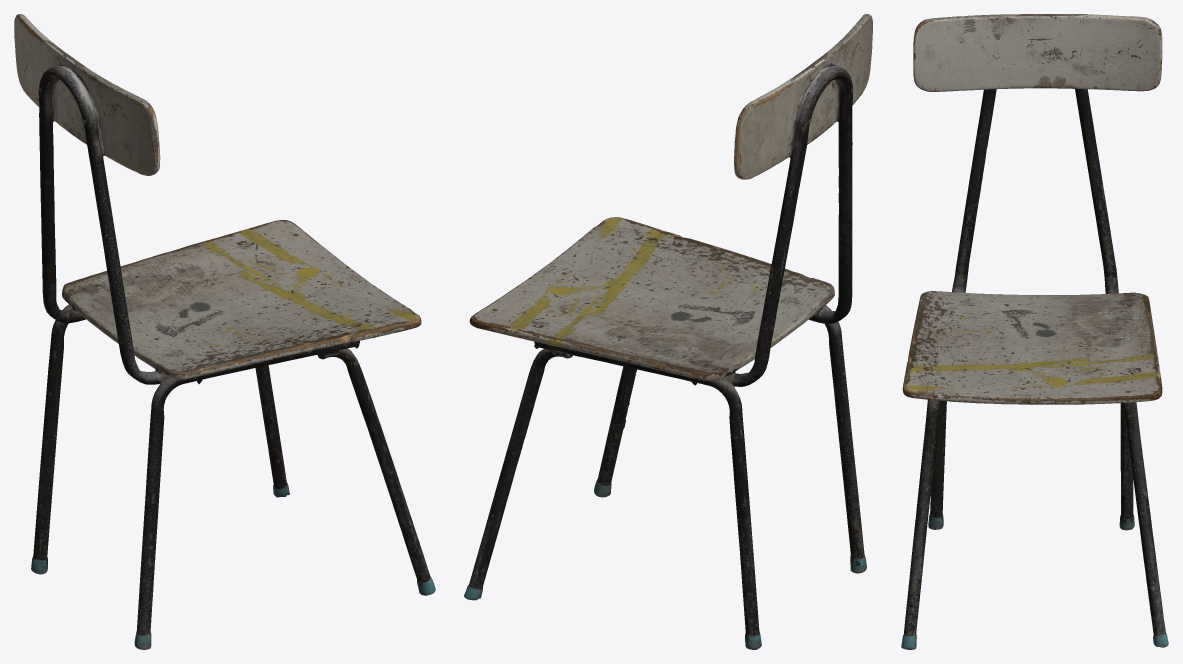
The model's file is Silla.fbx.
3 renders of one model, left to right at view 1: azimuth 30°, elevation 25°; view 2: azimuth 150°, elevation 25°; view 3: azimuth 270°, elevation 25°, orthographic. The views are drawn at different scales.
Visible parts, largest first — view 1: Silla; view 2: Silla; view 3: Silla.
Part boxes in pixels (box(x1,y1,x2,y2)): Silla: box(14, 14, 435, 649); Silla: box(464, 14, 872, 649); Silla: box(901, 14, 1168, 649).
Bounding box in the file's own units: 63.83 × 110 × 52.5.
